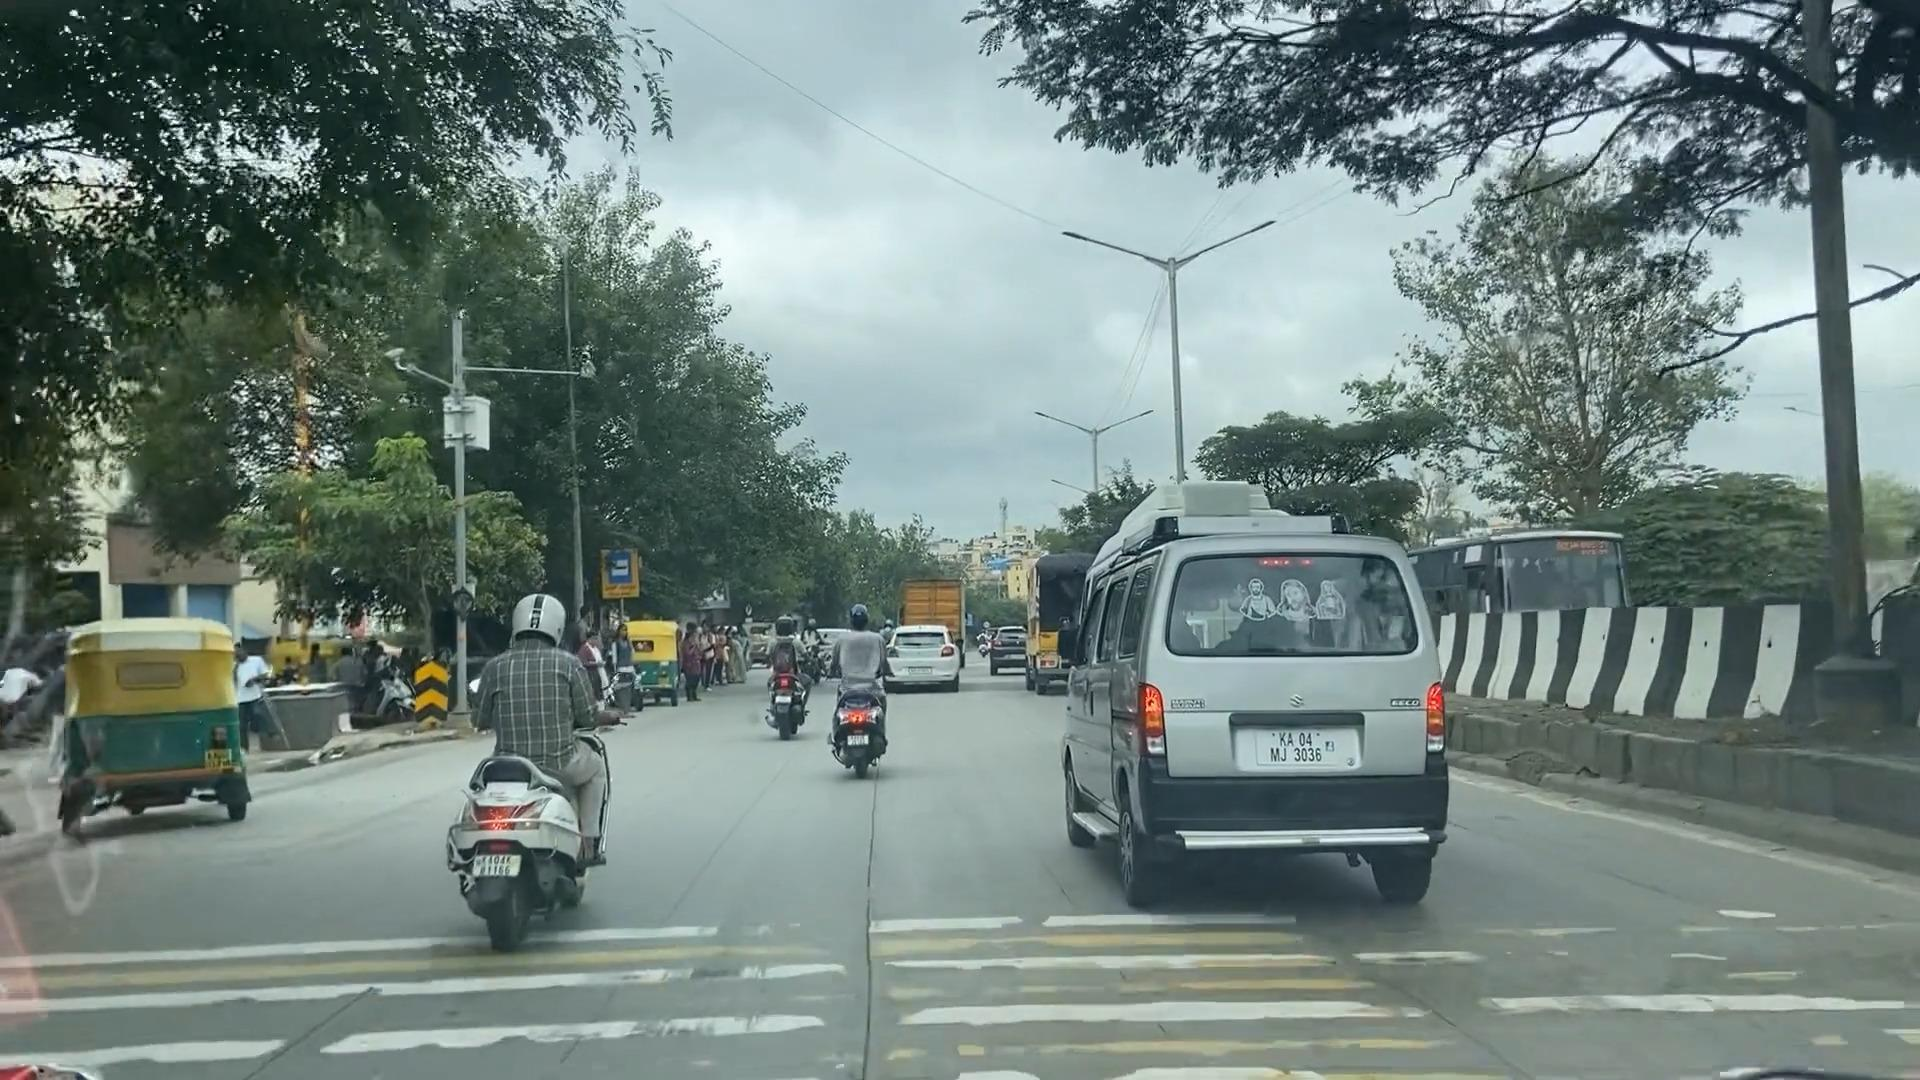LMV: (1048, 538, 1439, 897), (451, 575, 609, 939)
SpeedBump: (18, 920, 1899, 1080)
